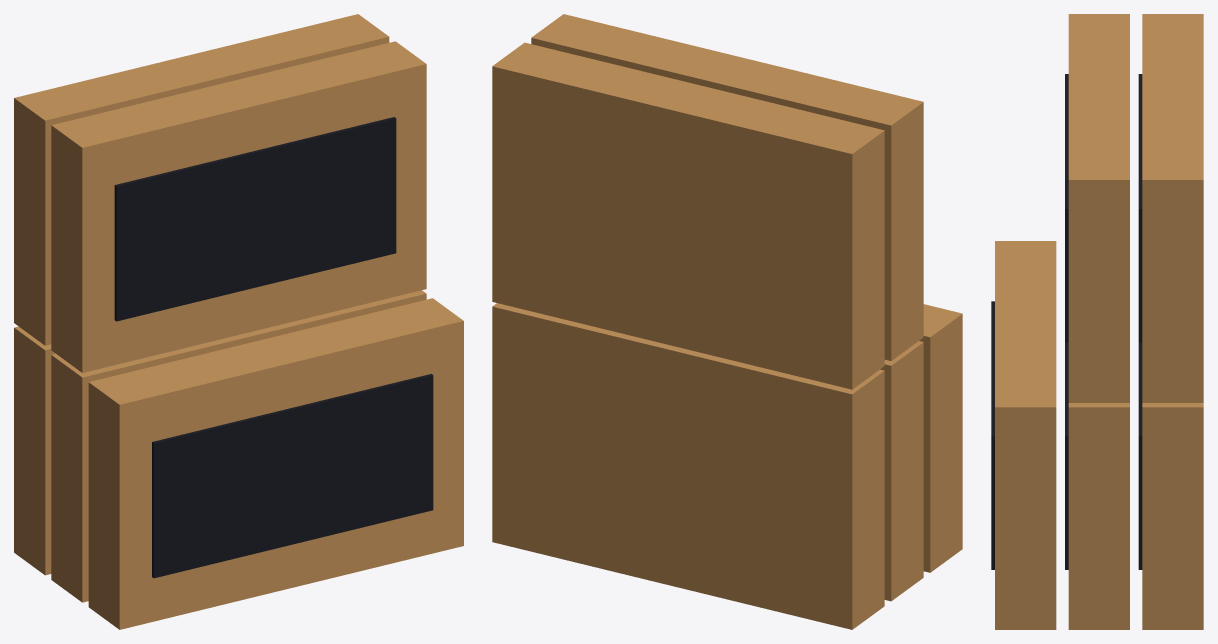
File: tv-boxes.glb
The picture shows the model from 3 angles, left to right: view 1: azimuth 30°, elevation 25°; view 2: azimuth 150°, elevation 25°; view 3: azimuth 270°, elevation 25°; orthographic projection. The views are drawn at different scales.
Visible parts, largest first — view 1: tv-boxes; view 2: tv-boxes; view 3: tv-boxes.
Boxes of the visible parts, x1,y1,x2,y2 form: tv-boxes: [14, 14, 463, 629]; tv-boxes: [492, 14, 962, 629]; tv-boxes: [991, 14, 1203, 629].
Size of the model in its own units: 1.6 by 2.02 by 0.865.
